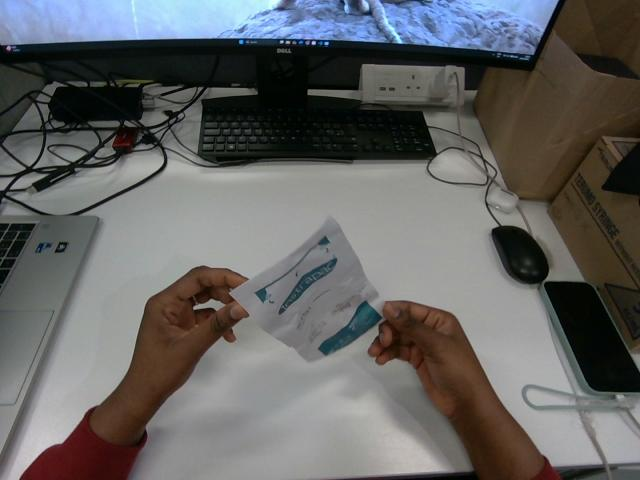gallipot: (231, 217, 382, 360)
